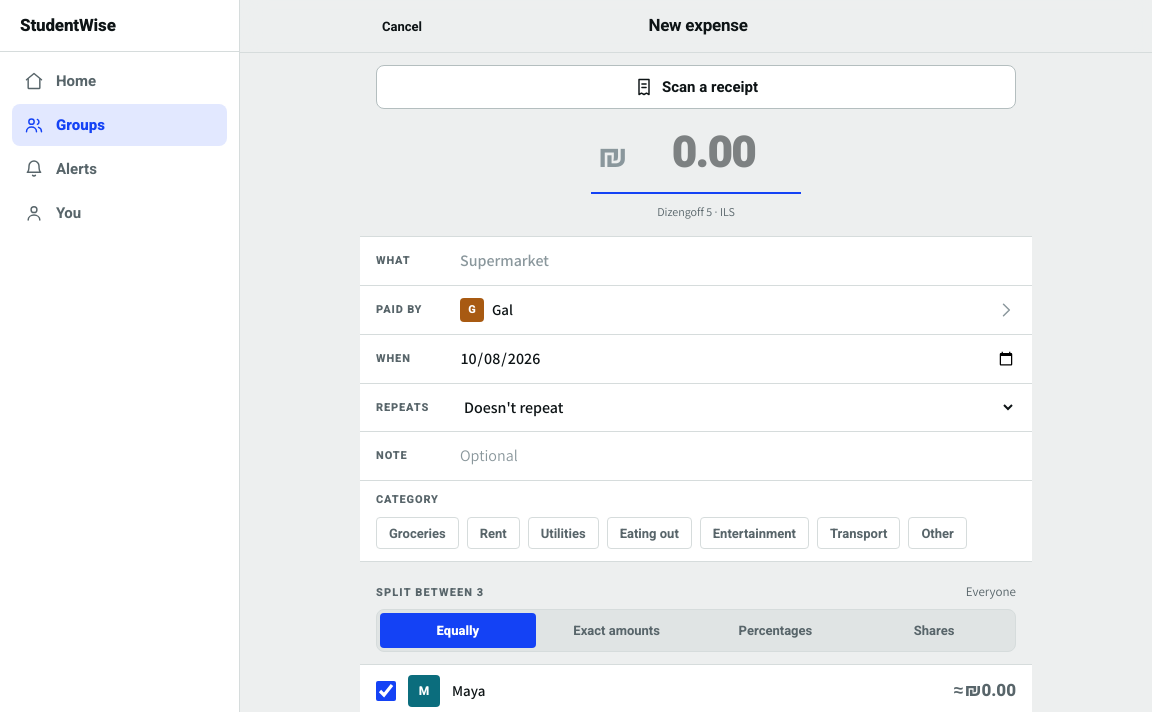
Test: the repeats toggle › keeps the expense and says so when the schedule could not be set up
Type "Rent" into the field named "What was it?" at point(738, 261), box top-left (460, 249), bottom-right (1016, 273)
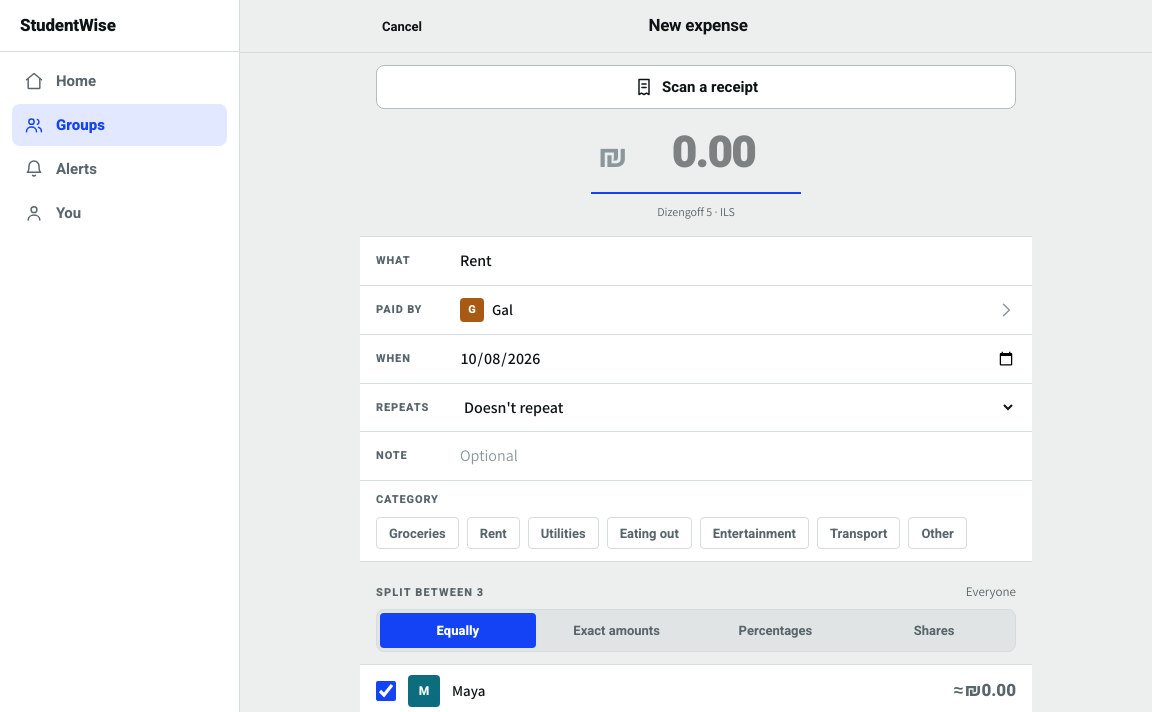
Type "3600" into the field named "Amount" at point(713, 154), box top-left (633, 121), bottom-right (793, 186)
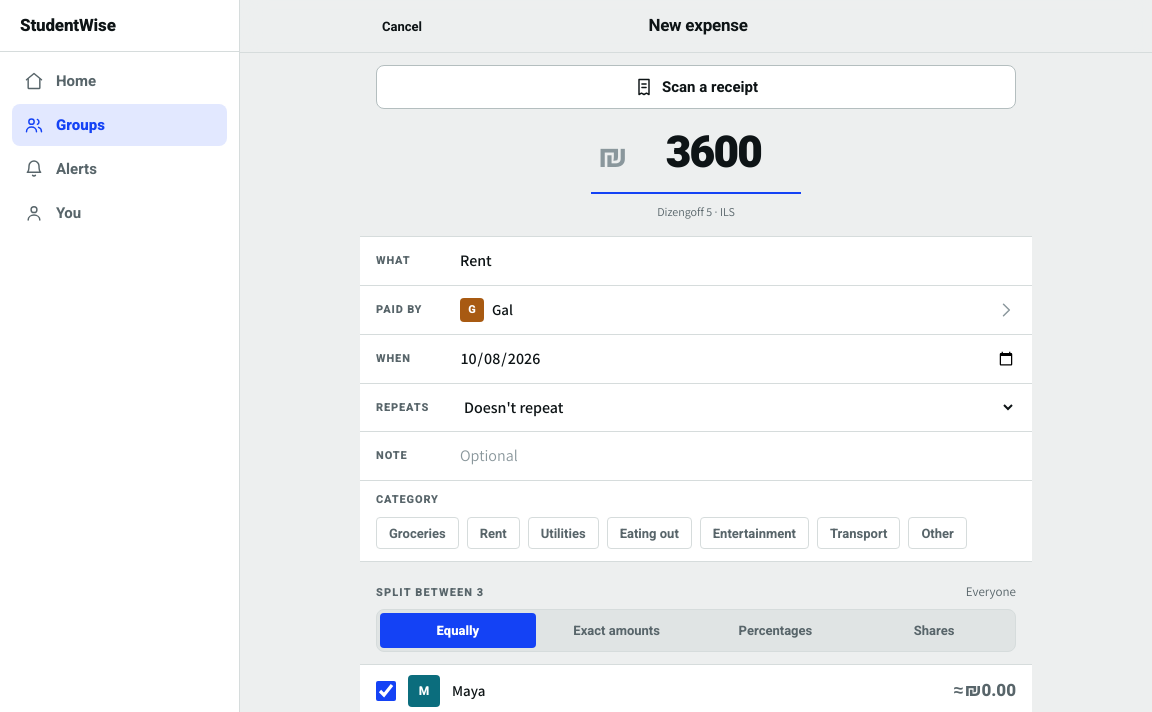
Type "2026-09-12" into the date field named "When?" at point(738, 359), box top-left (460, 347), bottom-right (1016, 371)
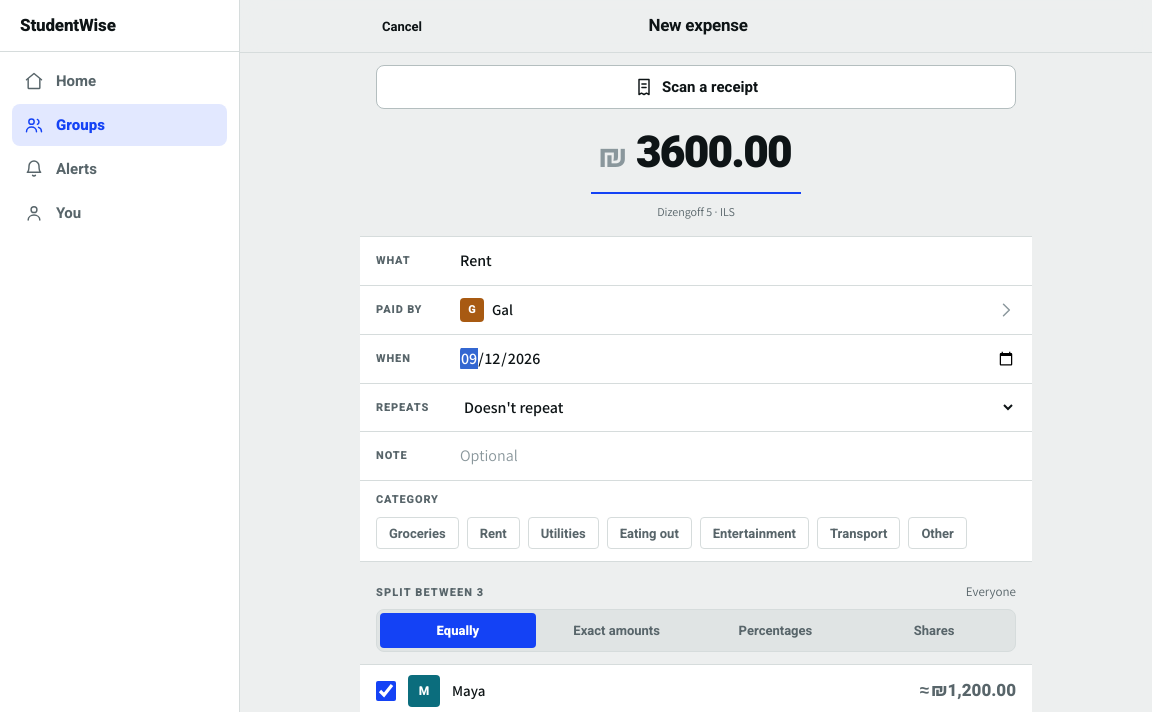
Select "Monthly" in the dropdown named "Repeats" at point(738, 408), box top-left (460, 396), bottom-right (1016, 419)
(page scrolled)
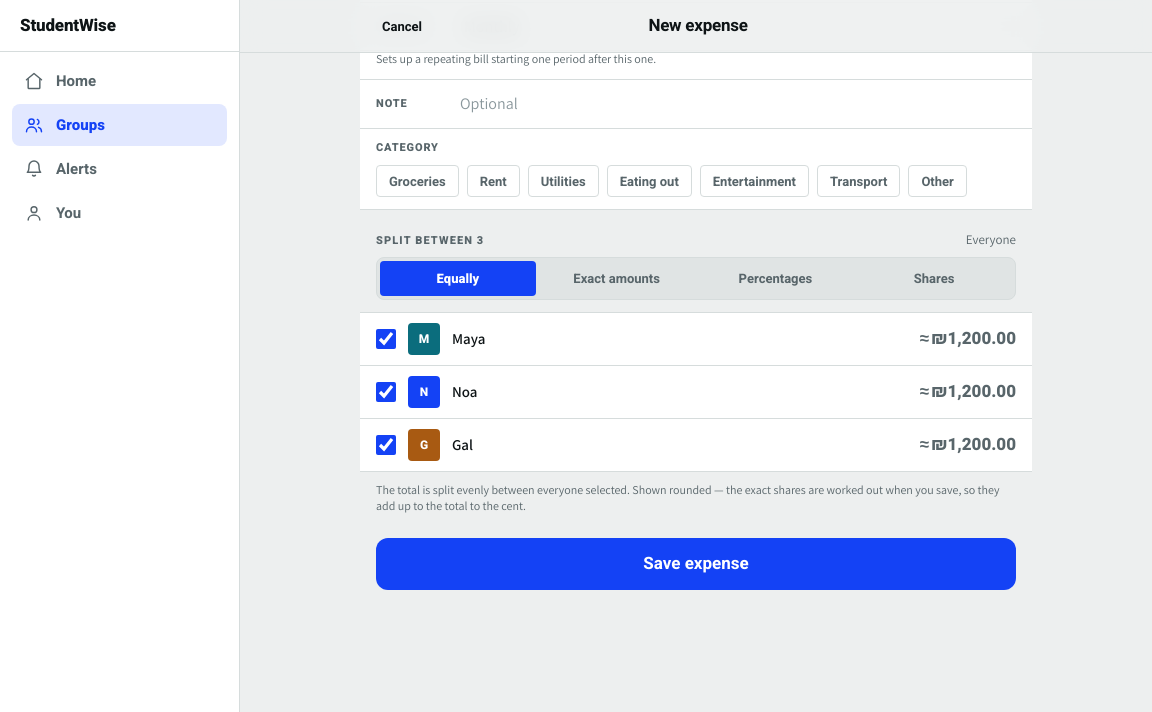
Click the button "Save expense" at point(696, 564), box top-left (376, 538), bottom-right (1016, 590)
(page scrolled)
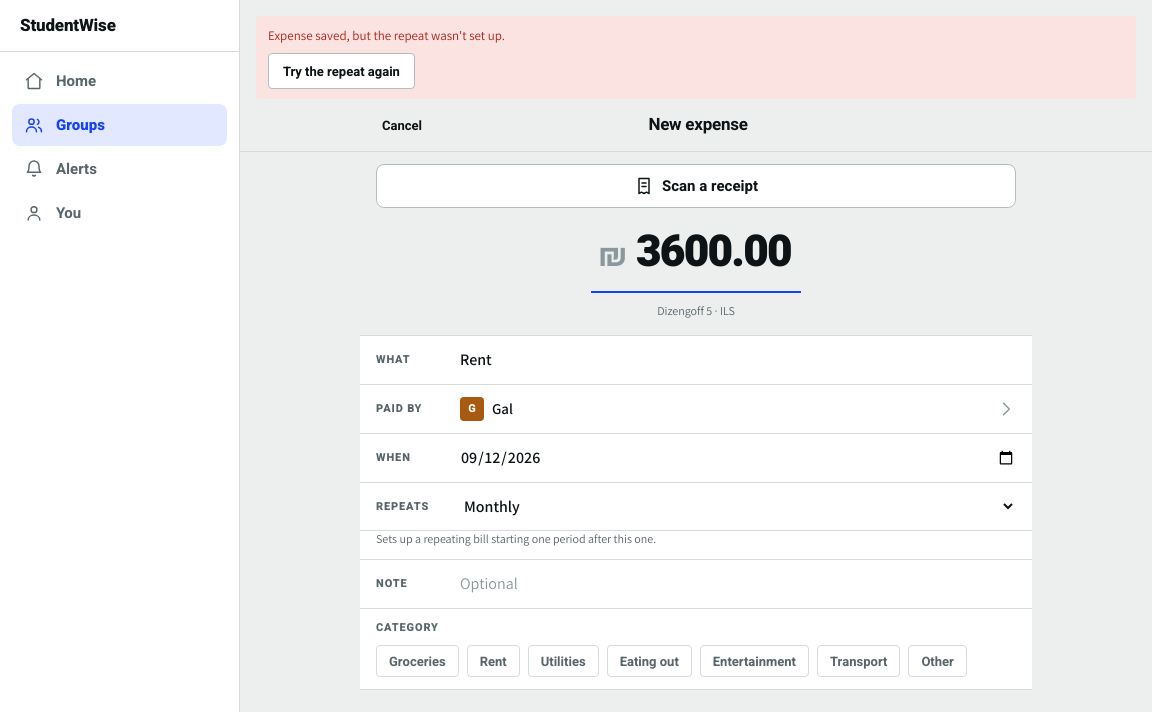
Check: the text "Expense saved, but the repeat wasn't set up." is shown, box top-left (268, 27), bottom-right (505, 44)
